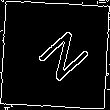N_SW: (22, 23, 88, 87)
